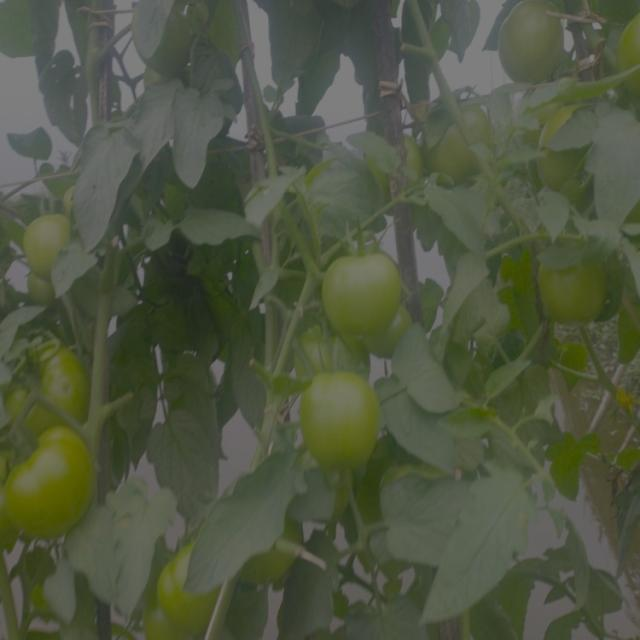tomato: (1, 432, 112, 549), (296, 368, 388, 471), (312, 237, 403, 335), (1, 342, 87, 430), (497, 1, 574, 82), (424, 98, 492, 182), (535, 248, 609, 323), (16, 200, 75, 279), (161, 540, 212, 620), (254, 523, 311, 584), (370, 130, 421, 190), (298, 327, 371, 368), (614, 11, 640, 94), (542, 144, 581, 195)
